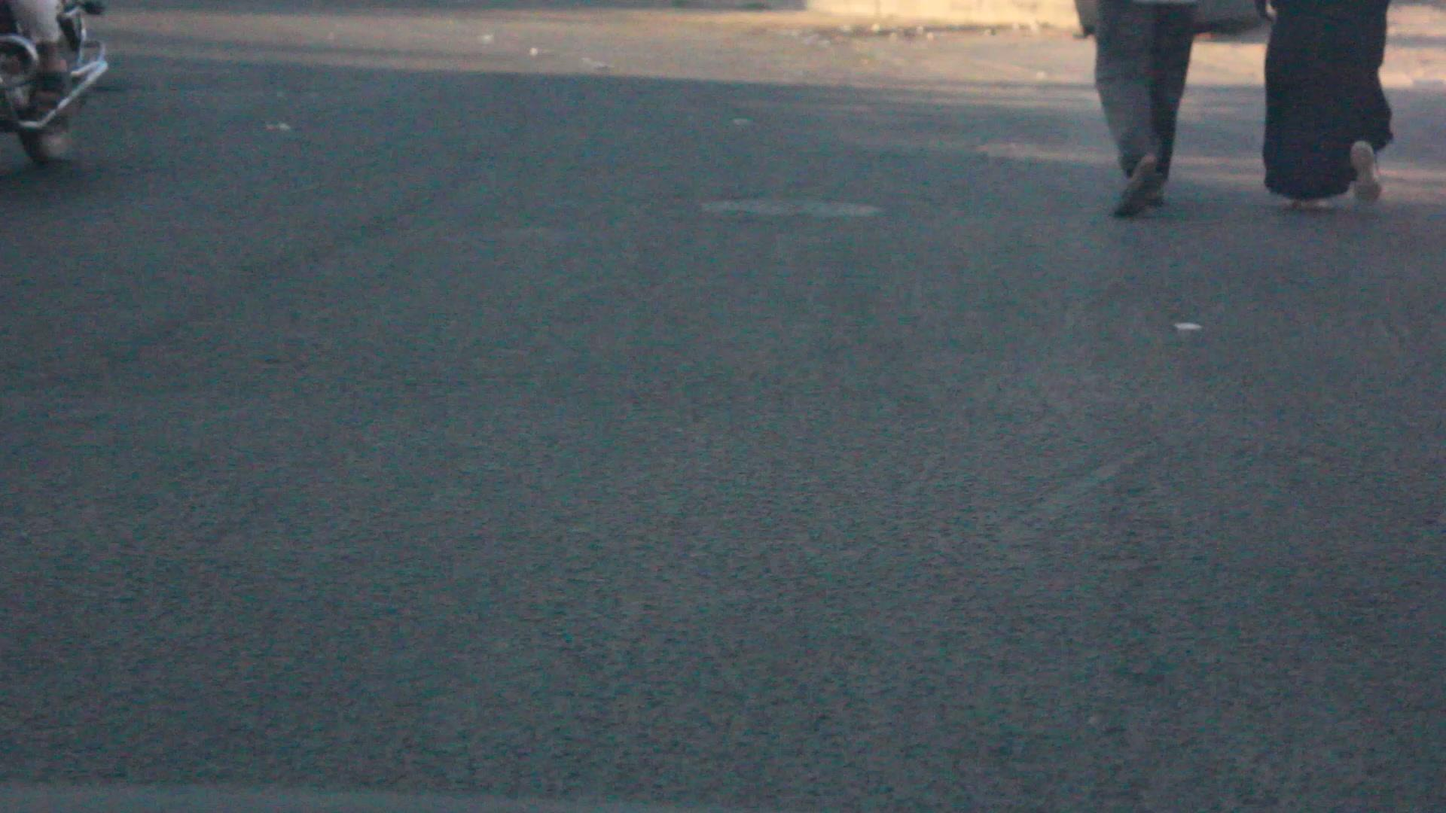Bump: (2, 390, 1446, 813)
